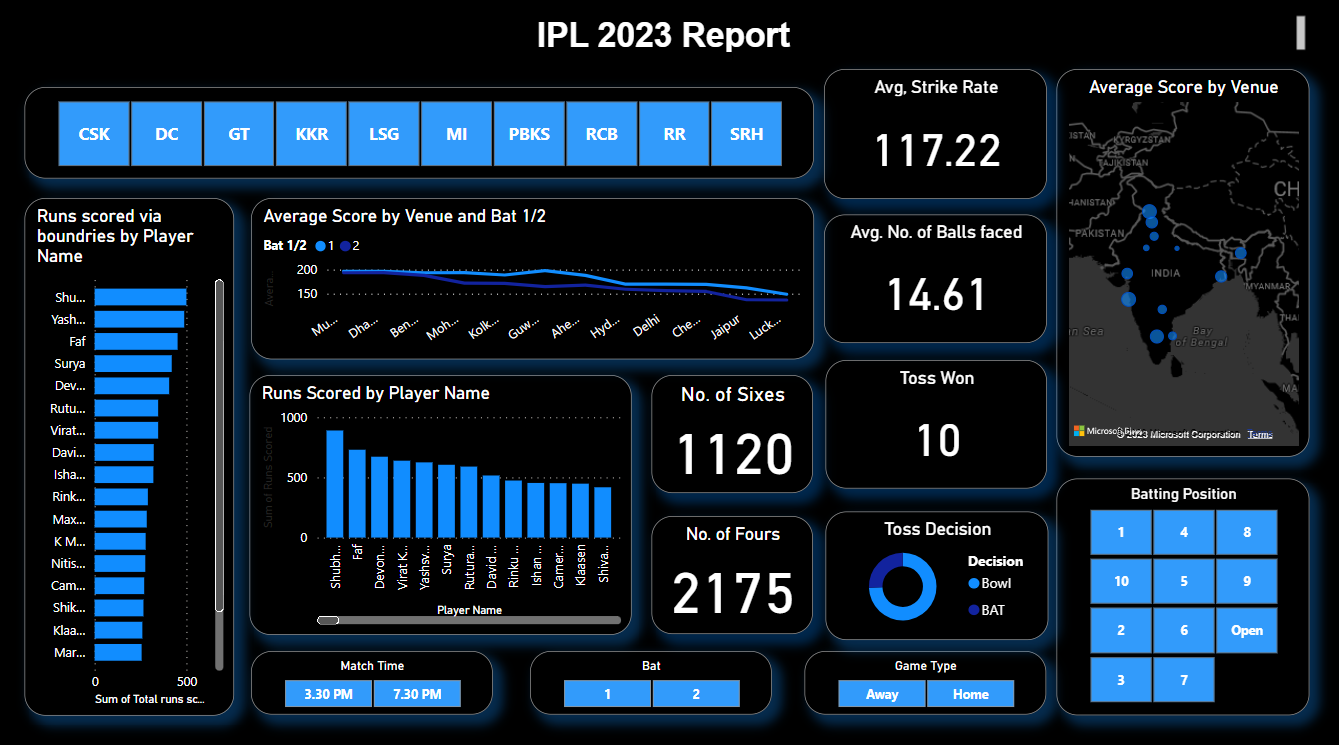

The page's visual inventory and layout, read from the dashboard file:
{"tool":"powerbi","page":{"name":"Page 1","canvas":[1280,720],"ordinal":0},"visuals":[{"type":"map","title":"Average Score by Venue","fields":{"Category":["Table1.Venue"],"Size":["Table1.Total Score"]},"box":[1009.3,68.3,241.6,370.3],"z":0},{"type":"slicer","fields":{"Values":["Table1.Team"]},"box":[23.8,85.8,753.4,87.4],"z":1000},{"type":"columnChart","title":" Runs Scored by Player Name","fields":{"Y":["Table1.Runs Scored"],"Category":["Table1.Player Name"]},"box":[239.2,360.4,364.9,248.3],"z":2000},{"type":"lineChart","title":"Average Score by Venue and Bat 1/2","fields":{"Y":["Table1.Total Score"],"Category":["Table1.Venue"],"Series":["Table1.Bat 1/2"]},"box":[240,192.3,537.2,154.2],"z":3000},{"type":"slicer","title":"Game Type","fields":{"Values":["Table1.Home/Away"]},"box":[769.3,624.6,230.5,60.4],"z":4000},{"type":"clusteredBarChart","title":"Runs scored via boundries by Player Name","fields":{"Y":["Table1.Total runs scored via boundries"],"Category":["Table1.Player Name"]},"box":[23.8,192.3,200.3,494.3],"z":5000},{"type":"slicer","title":"Match Time","fields":{"Values":["Table1.Game Time "]},"box":[240,624.6,230.5,60.4],"z":6000},{"type":"slicer","title":"Batting Position","fields":{"Values":["Table1.Batting Position"]},"box":[1009.3,459.3,241.6,225.7],"z":7000},{"type":"slicer","title":"Bat","fields":{"Values":["Table1.Bat 1/2"]},"box":[507,624.6,230.5,60.4],"z":8000},{"type":"card","title":"No. of Sixes","fields":{"Values":["Table1.Six"]},"box":[623,360.8,154.2,112.8],"z":9000},{"type":"textbox","box":[23.8,12.7,1227,44.5],"z":9500},{"type":"card","title":"No. of Fours","fields":{"Values":["Table1.Four"]},"box":[623,495.9,154.2,112.8],"z":10000},{"type":"card","title":"Avg, Strike Rate ","fields":{"Values":["Table1.Strike Rate "]},"box":[786.8,68.3,213,124],"z":12000},{"type":"card","title":"Avg. No. of Balls faced","fields":{"Values":["Table1.Balls Faced "]},"box":[786.8,208.2,213,122.4],"z":13000},{"type":"card","title":"Toss Won","fields":{"Values":["Table1.Toss"]},"box":[788.3,346.5,211.4,122.4],"z":14000},{"type":"donutChart","title":"Toss Decision ","fields":{"Category":["Table1.Decision"],"Y":["Table1.Match NO"]},"box":[788.3,491.1,213,122.4],"z":15000}]}

Visuals, with their boxes in screenshot pixels (x1, y1, x2, y2), scaled from the page's 1280x720 canvas onto the 1339x745 screenshot:
"Average Score by Venue" map: <region>1056, 71, 1309, 454</region>
slicer - Table1.Team: <region>25, 89, 813, 179</region>
" Runs Scored by Player Name" columnChart: <region>250, 373, 632, 630</region>
"Average Score by Venue and Bat 1/2" lineChart: <region>251, 199, 813, 359</region>
"Game Type" slicer: <region>805, 646, 1046, 709</region>
"Runs scored via boundries by Player Name" clusteredBarChart: <region>25, 199, 234, 710</region>
"Match Time" slicer: <region>251, 646, 492, 709</region>
"Batting Position" slicer: <region>1056, 475, 1309, 709</region>
"Bat" slicer: <region>530, 646, 771, 709</region>
"No. of Sixes" card: <region>652, 373, 813, 490</region>
textbox: <region>25, 13, 1308, 59</region>
"No. of Fours" card: <region>652, 513, 813, 630</region>
"Avg, Strike Rate " card: <region>823, 71, 1046, 199</region>
"Avg. No. of Balls faced" card: <region>823, 215, 1046, 342</region>
"Toss Won" card: <region>825, 359, 1046, 485</region>
"Toss Decision " donutChart: <region>825, 508, 1047, 635</region>
